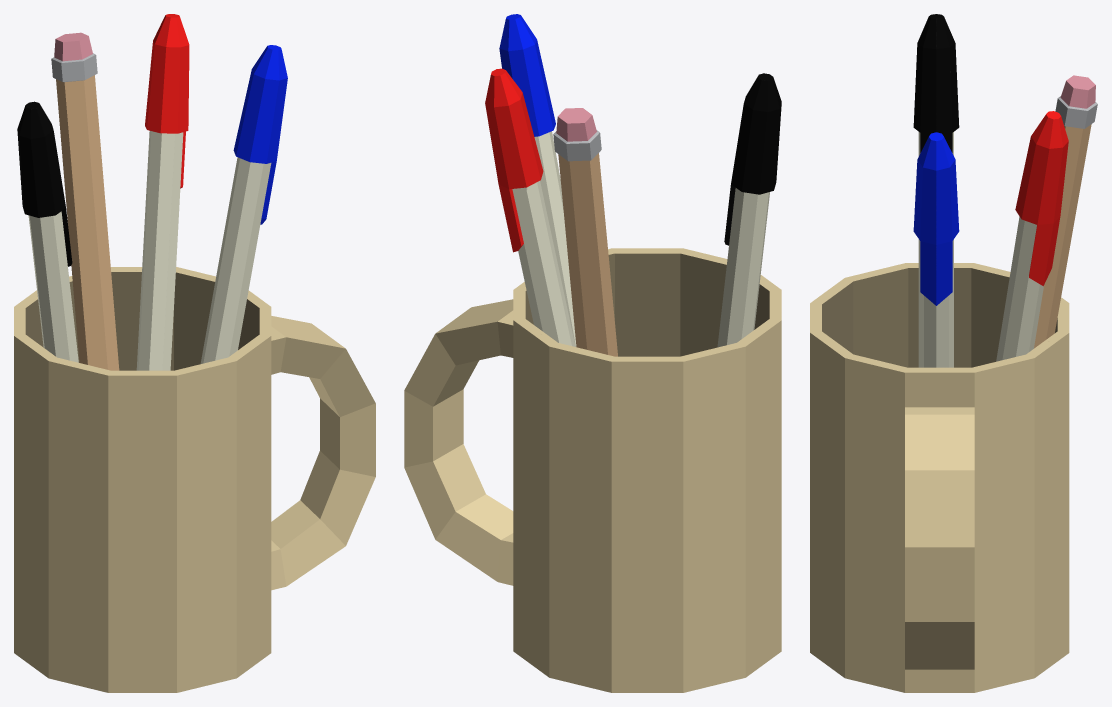
The model's file is Mug&Pencil_Bege.fbx.
3 views of the same model, side by side, from view 1: azimuth 30°, elevation 25°; view 2: azimuth 150°, elevation 25°; view 3: azimuth 270°, elevation 25° (orthographic). The views are drawn at different scales.
Visible parts, largest first — view 1: Mug/Pencil.001; view 2: Mug/Pencil.001; view 3: Mug/Pencil.001.
Part boxes in pixels (<box>): Mug/Pencil.001: <box>14,14,375,692</box>; Mug/Pencil.001: <box>404,14,781,692</box>; Mug/Pencil.001: <box>810,14,1097,692</box>.
Bounding box in the file's own units: 11.25 × 17.73 × 8.14.
